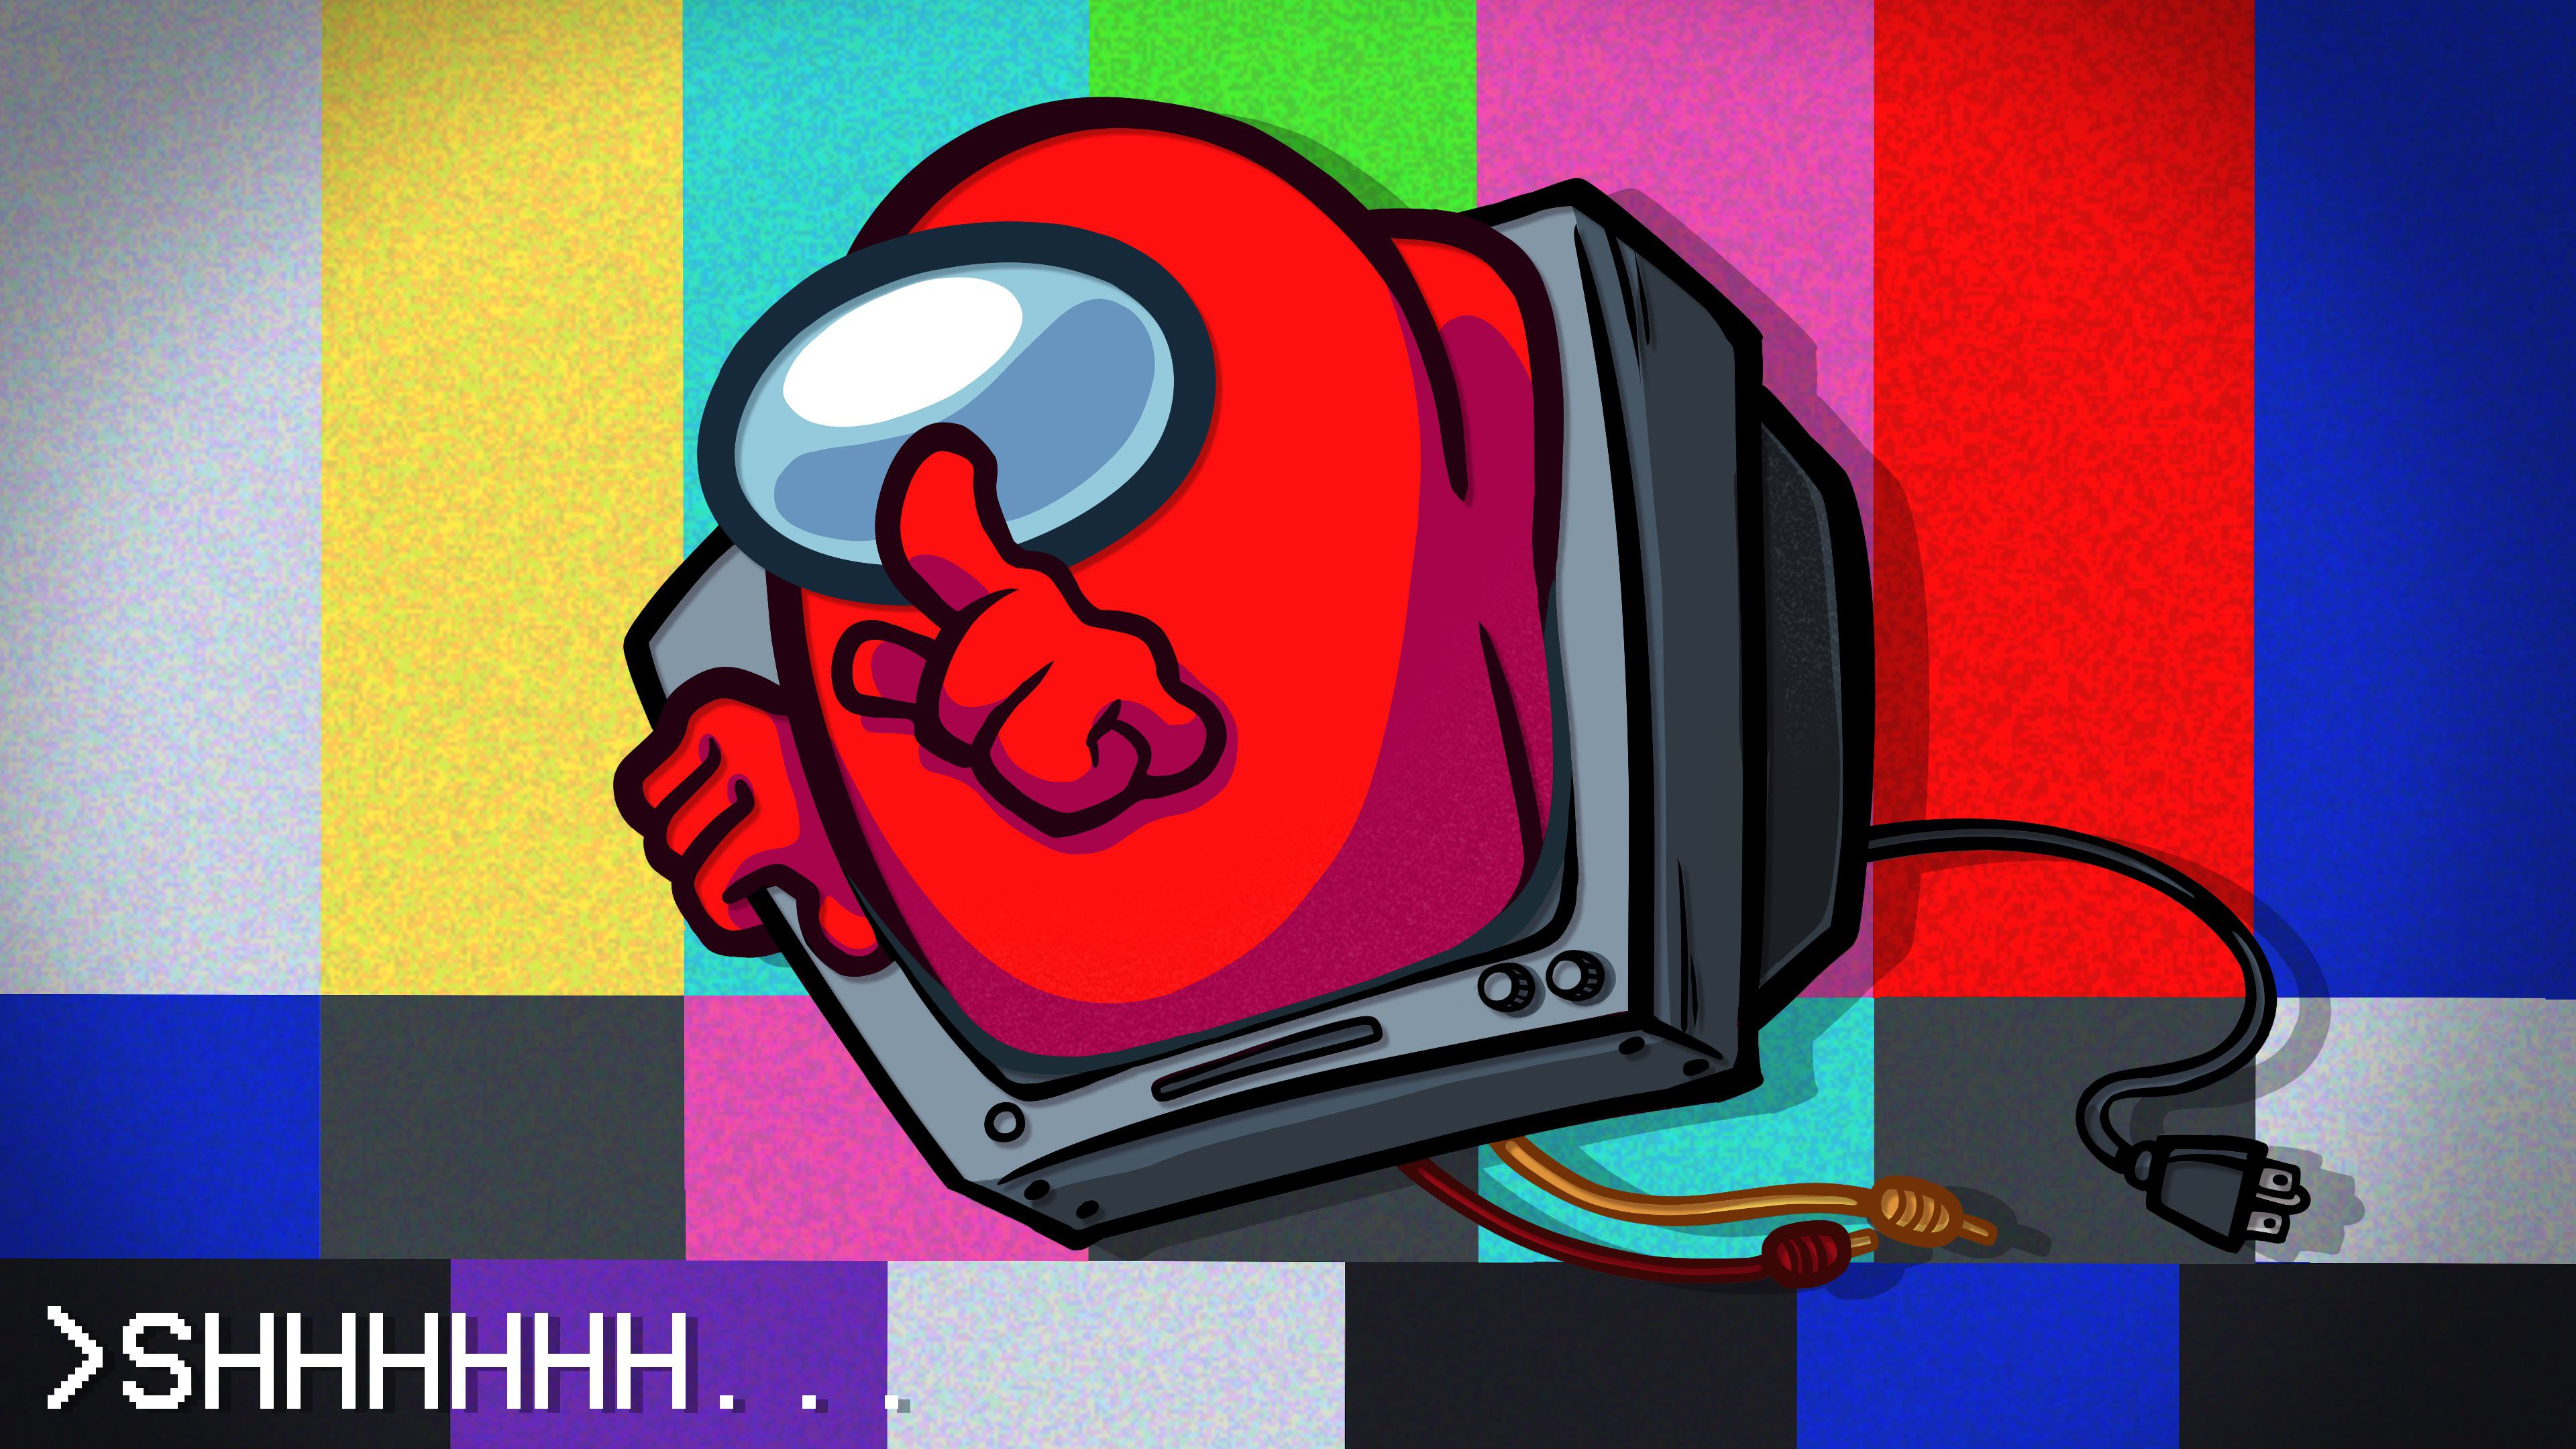amongus: (697, 92, 1575, 1047)
